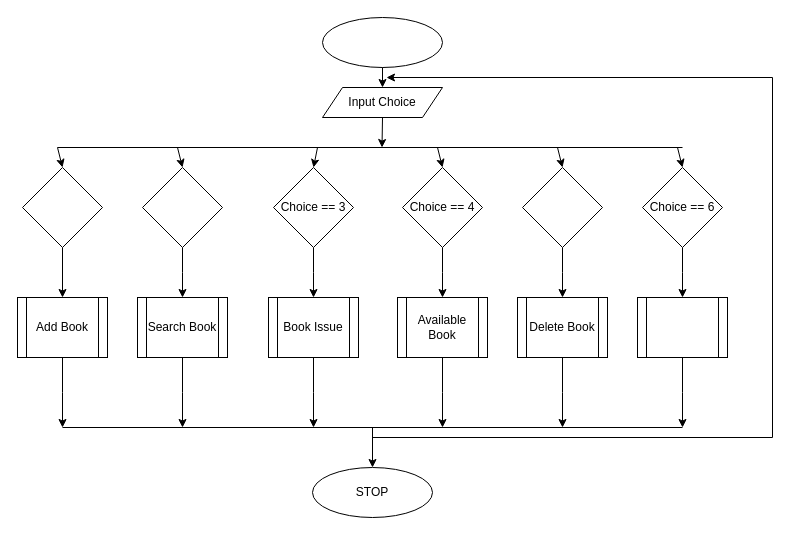
Image size: 798x535. Some labels were removed from this diagram. The centre of each missing label's shape, as x and y in pixels:
"Choice == 1" goes at point (62, 207).
"Choice == 2" goes at point (182, 207).
"Choice == 5" goes at point (562, 207).
"Display" goes at point (682, 327).
"START" goes at point (382, 42).
